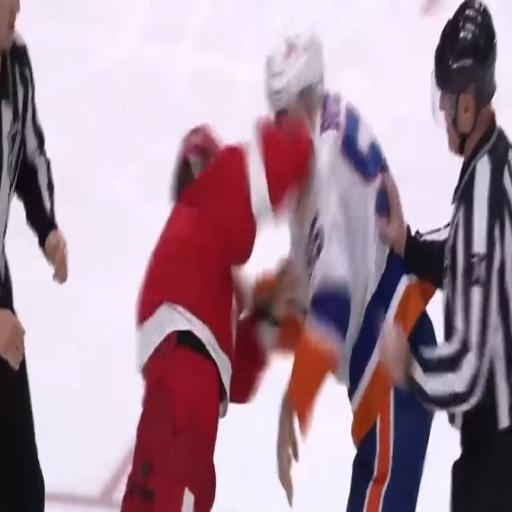violencia: (120, 9, 439, 512)
